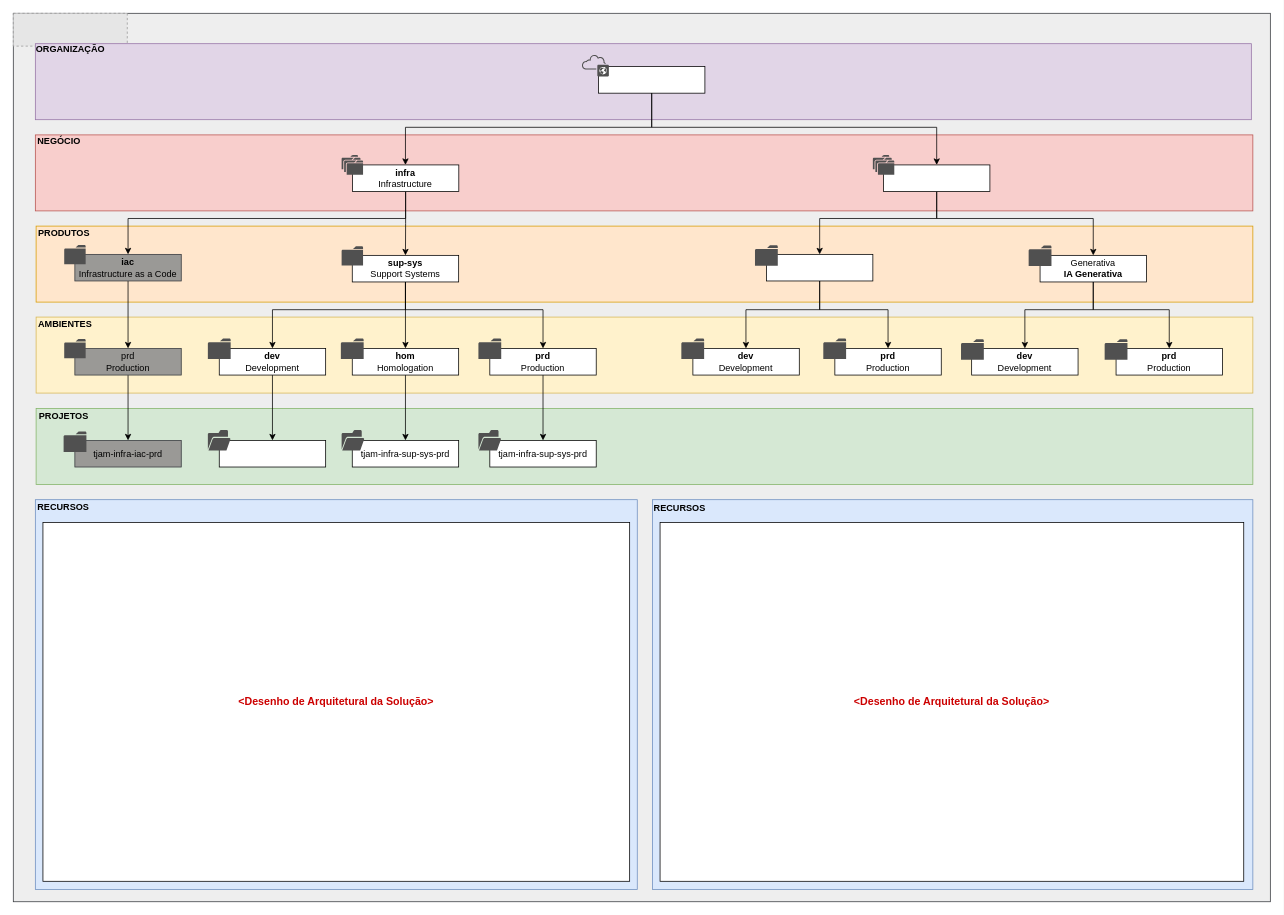
Image size: 1284x915. Some labels were removed from this diagram. Grey dashed boxes stand in for pictures. The shapes that lost their labels are listed below. From the top down, each one's centre as x and y in pixels, then its label:
pixel 651 79: tj tj.jus.br
pixel 936 178: judi Judiciary
pixel 819 267: Aran IA Aran
pixel 272 453: tjam-infra-sup-sys-dev
